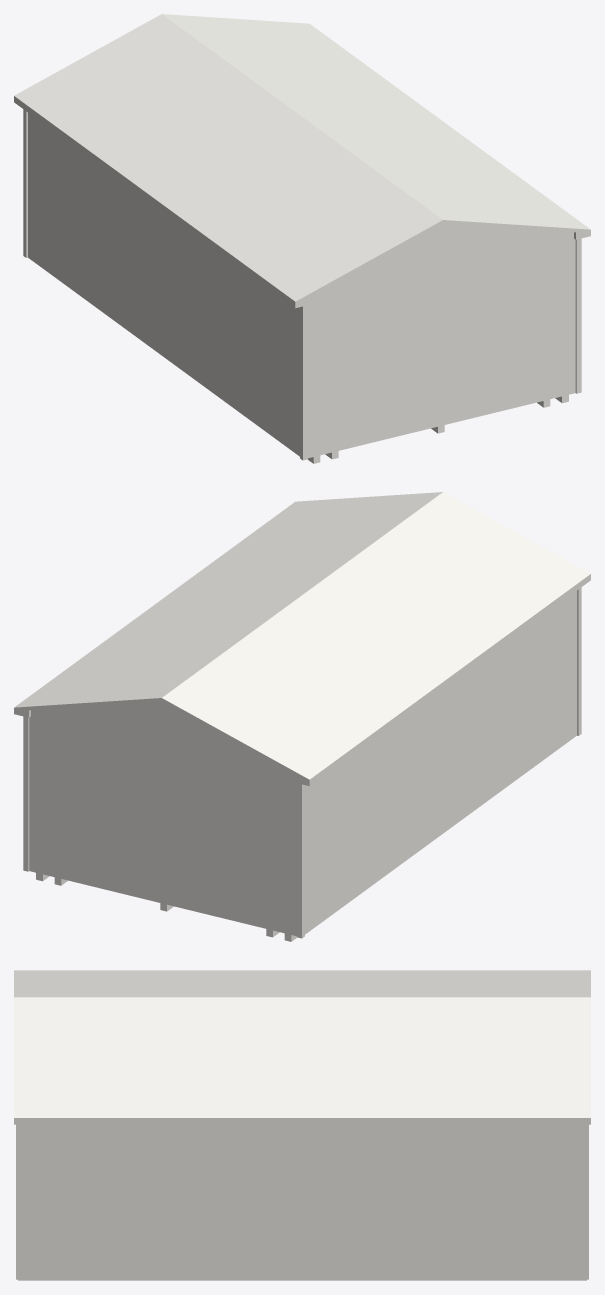
The model's file is 8 wide A-frame_7ft_14x24.obj.
The picture shows the model from 3 angles, top to bottom: view 1: azimuth 30°, elevation 25°; view 2: azimuth 150°, elevation 25°; view 3: azimuth 270°, elevation 25°; orthographic projection. The views are drawn at different scales.
Visible parts, largest first — view 1: Shed, Roof, Sides, Trim; view 2: Shed, Roof, Sides, Trim; view 3: Shed, Roof, Sides, Trim, Floor.
Boxes of the visible parts, x1,y1,x2,y2 form: Shed: [28, 113, 575, 458]; Roof: [14, 14, 590, 301]; Sides: [14, 96, 590, 308]; Trim: [23, 109, 581, 460]; Shed: [29, 591, 576, 936]; Roof: [14, 492, 590, 779]; Sides: [14, 574, 590, 786]; Trim: [23, 587, 581, 938]; Shed: [22, 1124, 582, 1278]; Roof: [14, 970, 590, 1117]; Sides: [14, 1118, 590, 1124]; Trim: [16, 1124, 588, 1279]; Floor: [18, 1278, 586, 1280].
Bounding box in the file's own units: 4.5 × 3.12 × 7.42.
